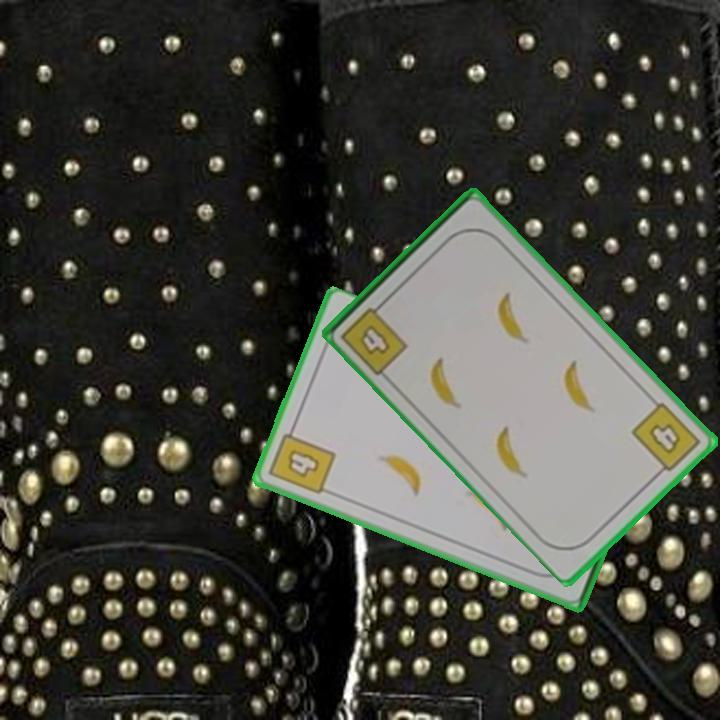4b: (627, 398, 704, 480), (337, 296, 411, 378), (265, 421, 339, 498)
